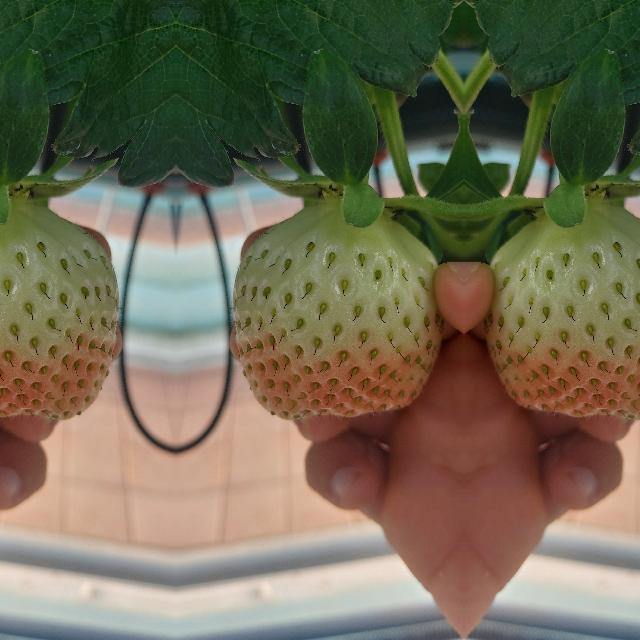Health_50: (232, 201, 442, 419), (483, 201, 640, 419), (0, 201, 118, 419)
